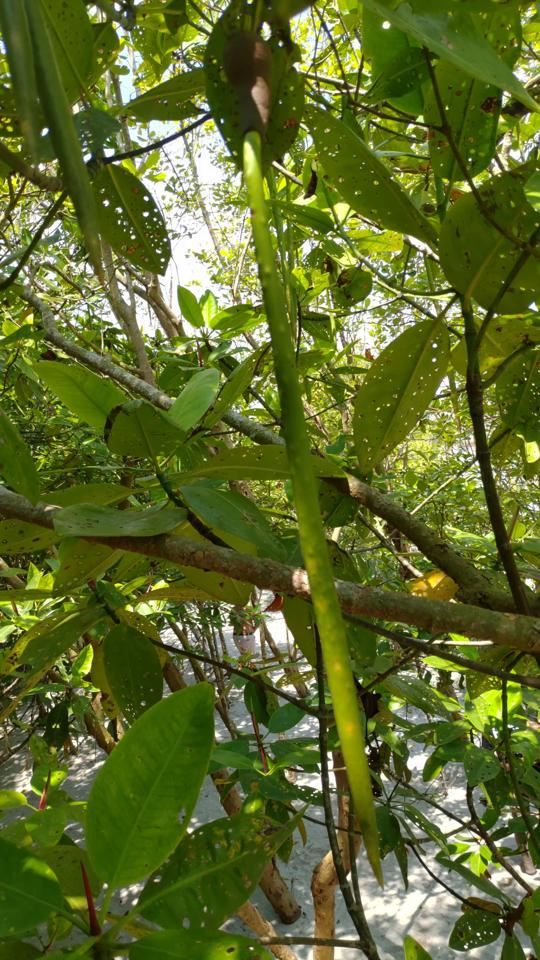mentah: (185, 12, 417, 907)
